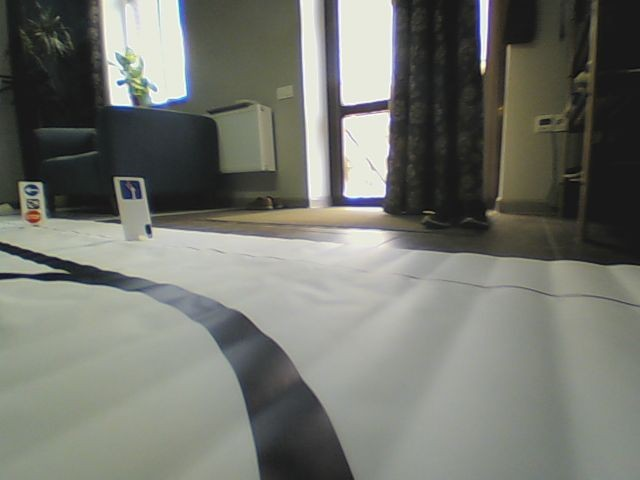priority_movement: (117, 178, 144, 202)
